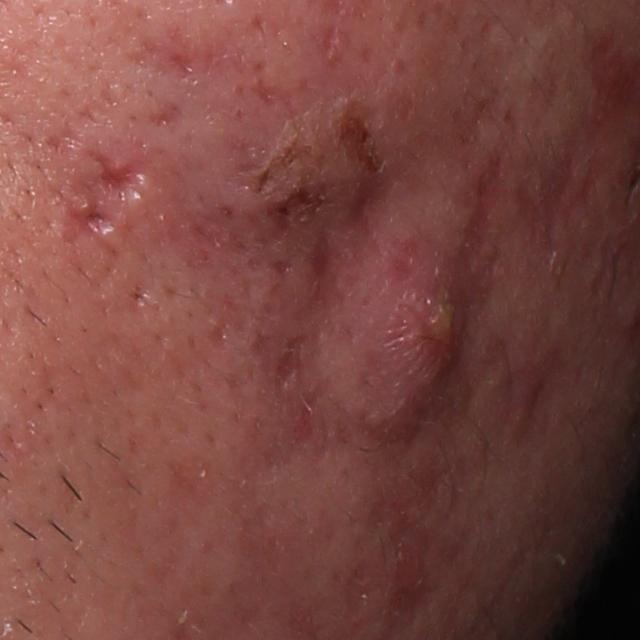atrophic_scar: (275, 249, 333, 463), (124, 18, 262, 95), (95, 151, 143, 202)
nodule: (317, 173, 485, 450), (174, 86, 401, 243)
